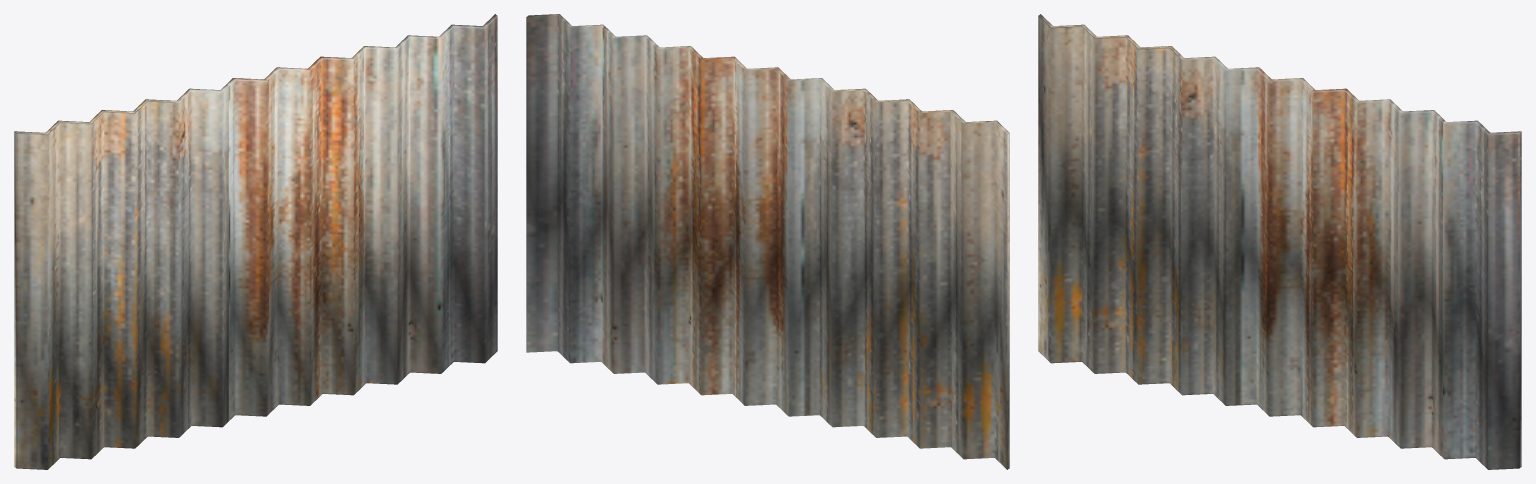
File: metalsheet.glb
The picture shows the model from 3 angles, left to right: view 1: azimuth 30°, elevation 25°; view 2: azimuth 150°, elevation 25°; view 3: azimuth 330°, elevation 25°; orthographic projection.
Parts seen in each view (by area): view 1: MetalSheet; view 2: MetalSheet; view 3: MetalSheet.
Boxes of the visible parts, x1=… form: MetalSheet: x1=14, y1=14, x2=497, y2=469; MetalSheet: x1=526, y1=14, x2=1009, y2=469; MetalSheet: x1=1038, y1=14, x2=1521, y2=469.
Bounding box in the file's own units: 3 × 2 × 0.125.
1 material, 1 textured.
